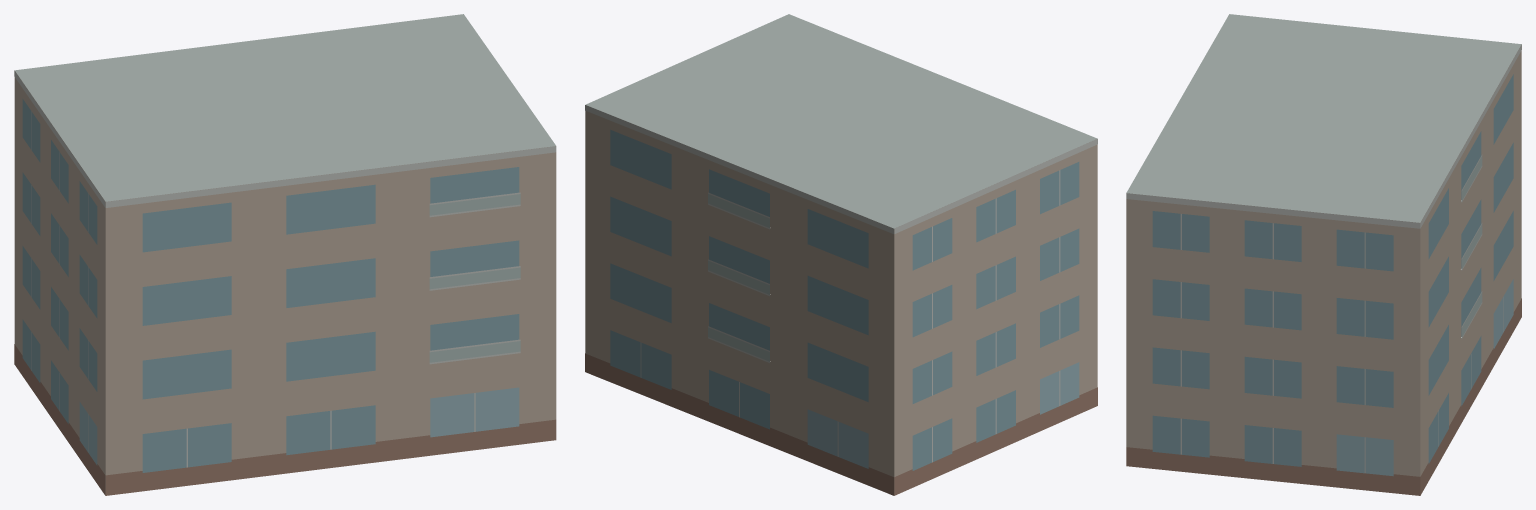
File: survey-upis-32872339.glb
3 views of the same model, side by side, from view 1: azimuth 30°, elevation 25°; view 2: azimuth 150°, elevation 25°; view 3: azimuth 270°, elevation 25° (orthographic). The views are drawn at different scales.
Visible parts, largest first — view 1: survey-upis-32872339.tmp; view 2: survey-upis-32872339.tmp; view 3: survey-upis-32872339.tmp.
Boxes of the visible parts, x1,y1,x2,y2 form: survey-upis-32872339.tmp: (14, 14, 556, 495); survey-upis-32872339.tmp: (585, 14, 1097, 495); survey-upis-32872339.tmp: (1126, 14, 1521, 495).
Bounding box in the file's own units: 18.55 × 11.3 × 14.85.
